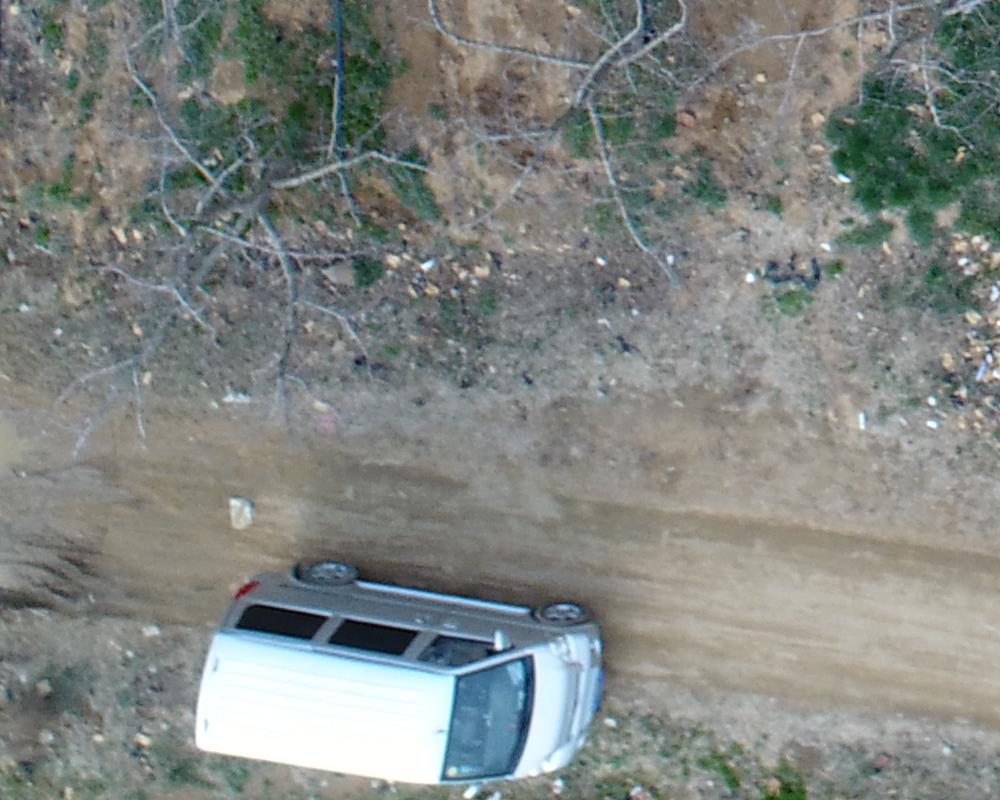apple: (66, 36, 419, 484), (362, 10, 732, 303)
